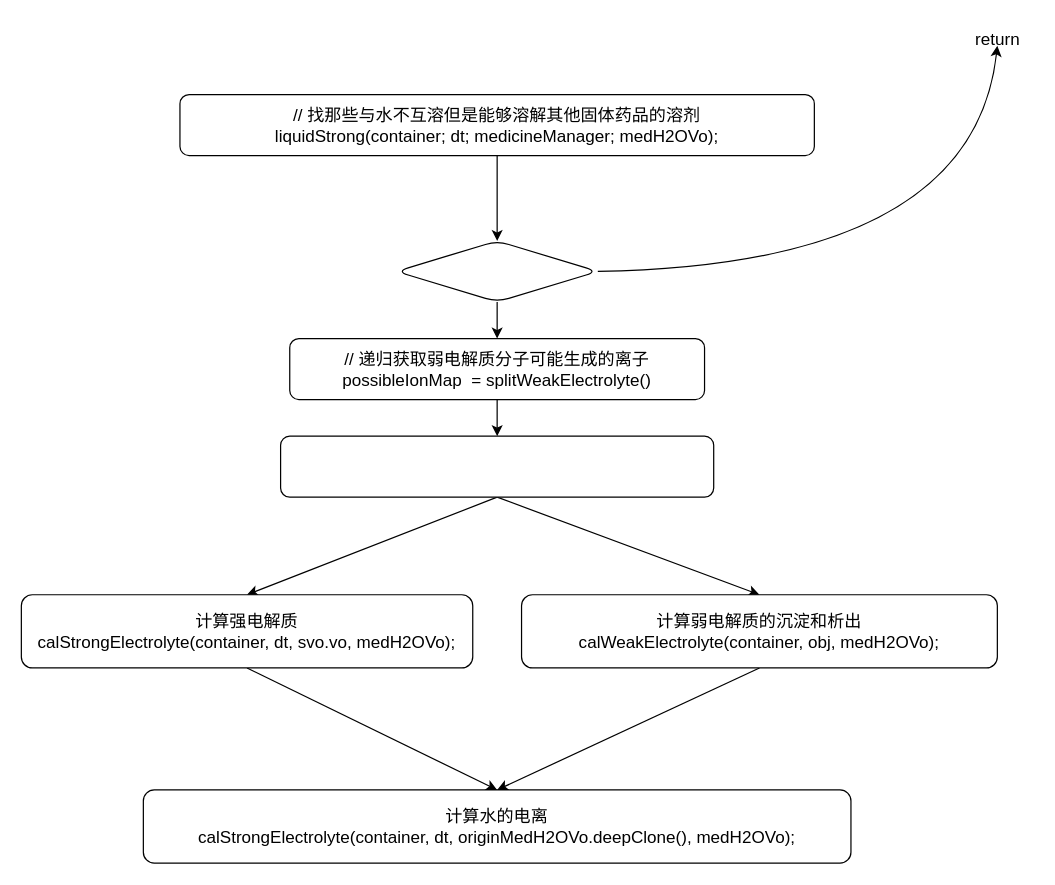
The diagram is 1055 pixels wide and 885 high, and some of its shapes have lost their labels. The box of each missing label's shape, as (x1, y1, x2, y2) in pixels:
if (!medH2OVo): (395, 240, 598, 302)
该方法通过传入的离子计算他们之间能组合成的化合物 getChemicalsFromIons: (279, 435, 714, 497)
